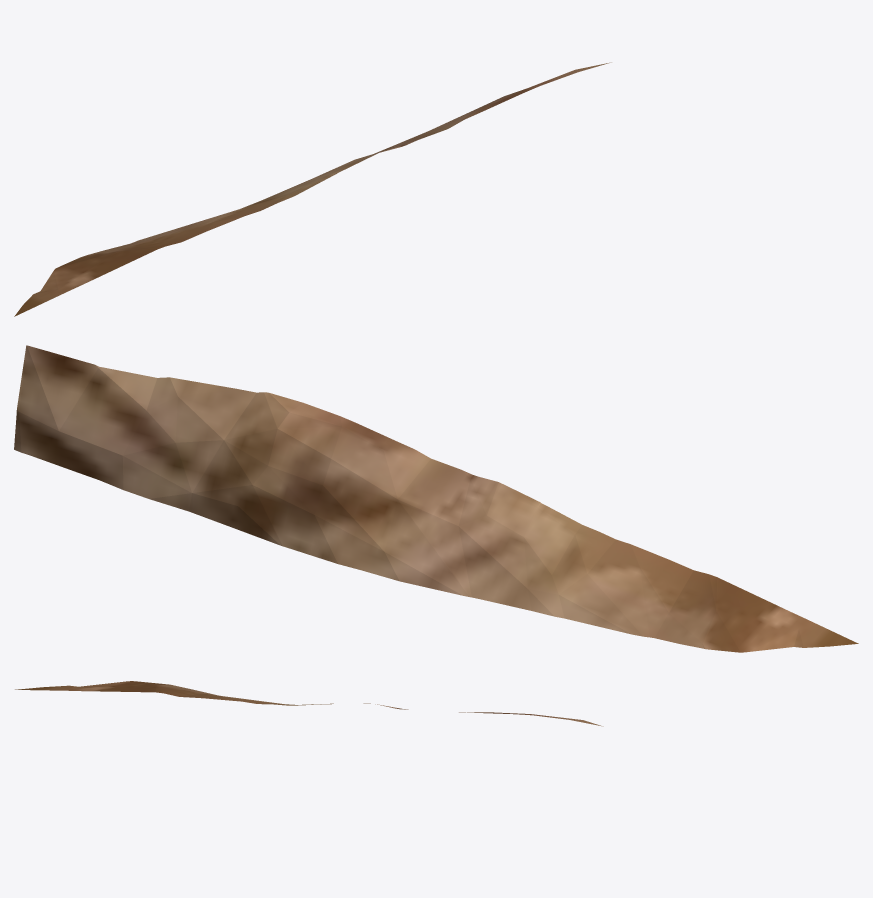
The picture shows the model from 3 angles, top to bottom: view 1: azimuth 30°, elevation 25°; view 2: azimuth 150°, elevation 25°; view 3: azimuth 330°, elevation 25°; orthographic projection.
Bounding box in the file's own units: 0.2629 × 0.0323 × 0.0278.
1 material, 1 textured.
